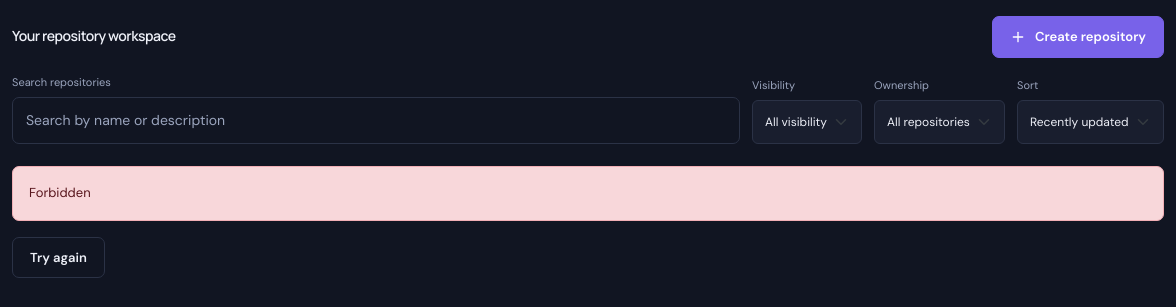
it: repository browser › shows API errors and provides retry
Check: the message reads "Forbidden", box [29, 184, 91, 201]
What coordinates should you click on to do the following:
click the button "Try again"
I would click on:
 (58, 258)
Its box is [12, 237, 105, 278].
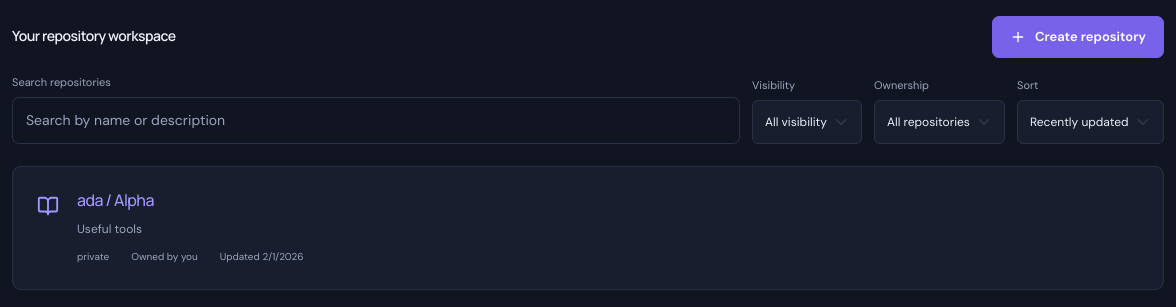
Check: the link "ada / Alpha" is shown, box [77, 189, 154, 211]
